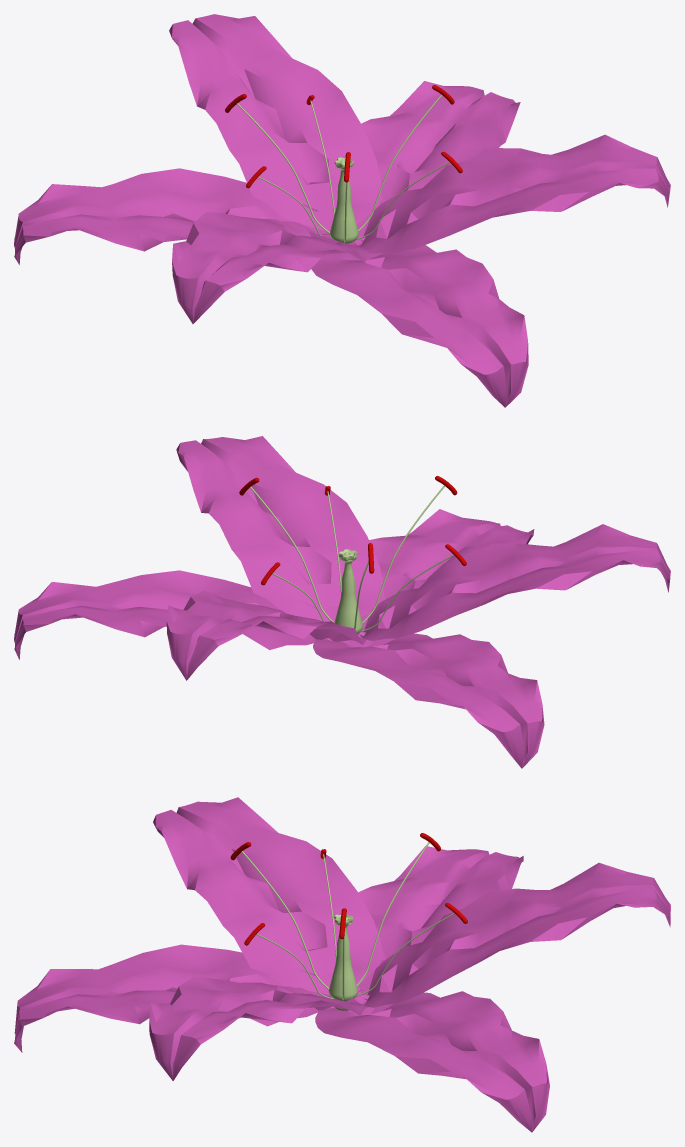
The model's file is Flower.fbx.
3 views of the same model, one above another, from view 1: azimuth 30°, elevation 25°; view 2: azimuth 150°, elevation 25°; view 3: azimuth 270°, elevation 25° (orthographic).
Parts seen in each view (by area): view 1: Side, Pestik; view 2: Side, Pestik, tichynka; view 3: Side, Pestik, tichymka, tichynka.
Boxes of the visible parts, x1,y1,x2,y2 form: Side: [14, 14, 670, 407]; Pestik: [330, 157, 358, 243]; Side: [14, 436, 670, 768]; Pestik: [334, 549, 362, 633]; tichynka: [362, 476, 457, 623]; Side: [14, 797, 670, 1132]; Pestik: [328, 914, 357, 1010]; tichymka: [356, 833, 440, 986]; tichynka: [230, 842, 329, 989].
Bounding box in the file's own units: 1626 × 566 × 1790.
